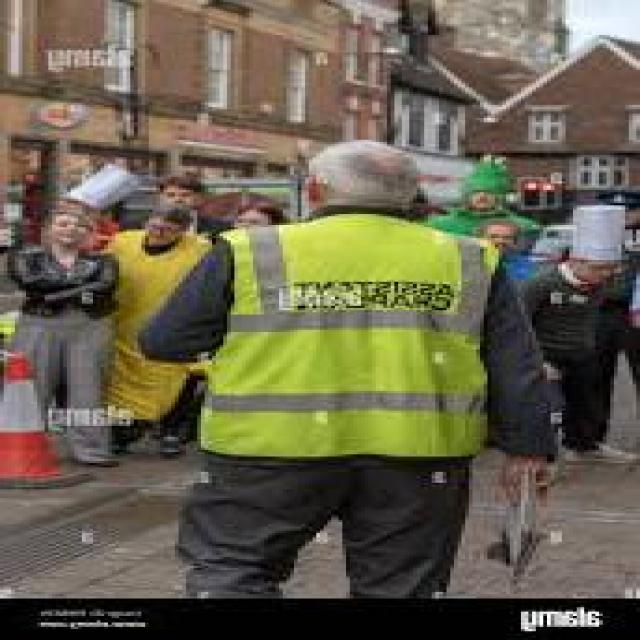Reflective-Jacket: (193, 221, 510, 474)
